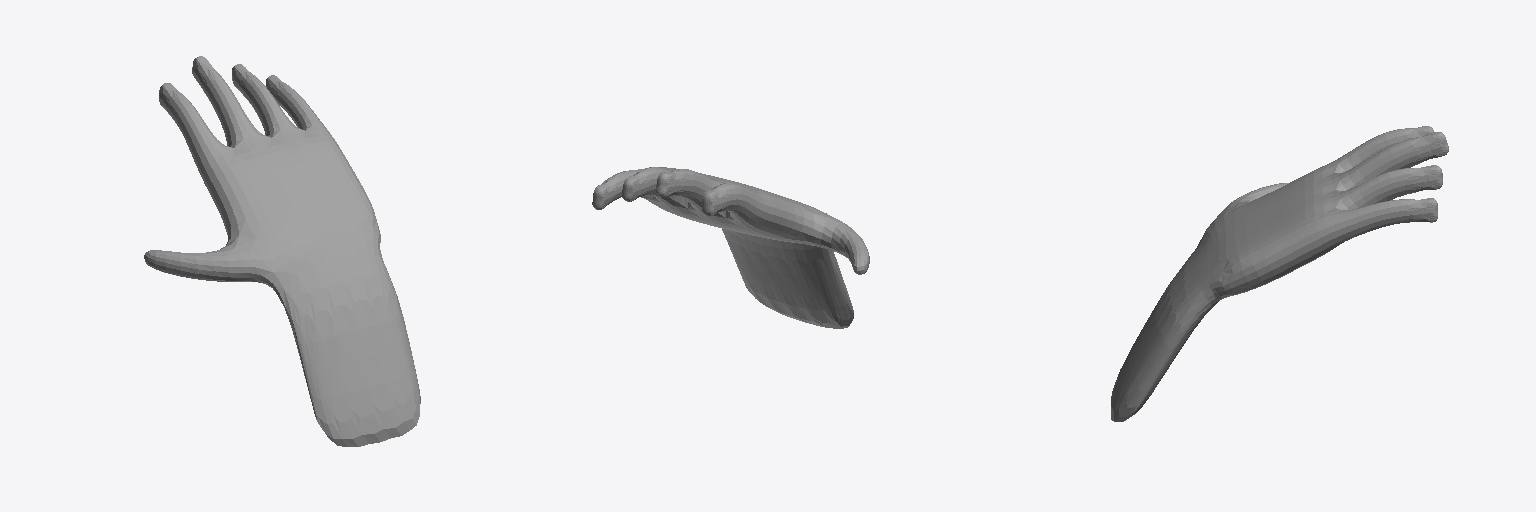
Rendered from AstralGauntlet.obj.
3 views of the same model, side by side, from view 1: azimuth 30°, elevation 25°; view 2: azimuth 150°, elevation 25°; view 3: azimuth 270°, elevation 25° (orthographic).
Parts seen in each view (by area): view 1: Cube; view 2: Cube; view 3: Cube.
Boxes of the visible parts, <box> form: Cube: <box>144,56,420,446</box>; Cube: <box>592,167,869,328</box>; Cube: <box>1111,126,1448,421</box>.
Bounding box in the file's own units: 5.27 × 6.54 × 7.43.